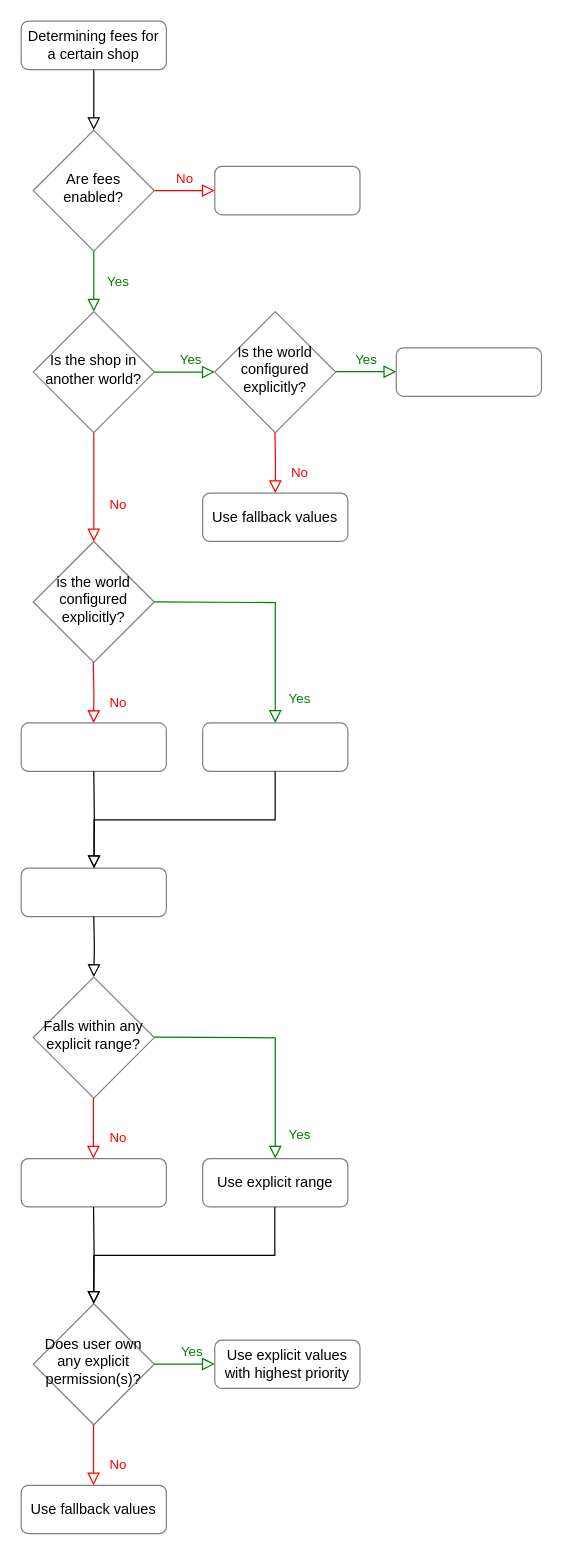
Image size: 563x1555. Some labels were removed from this diagram. Here are the shapes that lost their labels. From the top down, the centre of each, then its label:
(x=287, y=190): No fees
(x=468, y=371): Use explicit values
(x=93, y=746): Use fallback world
(x=274, y=746): Use explicit world
(x=93, y=892): Compute distance
(x=93, y=1182): Use fallback range
